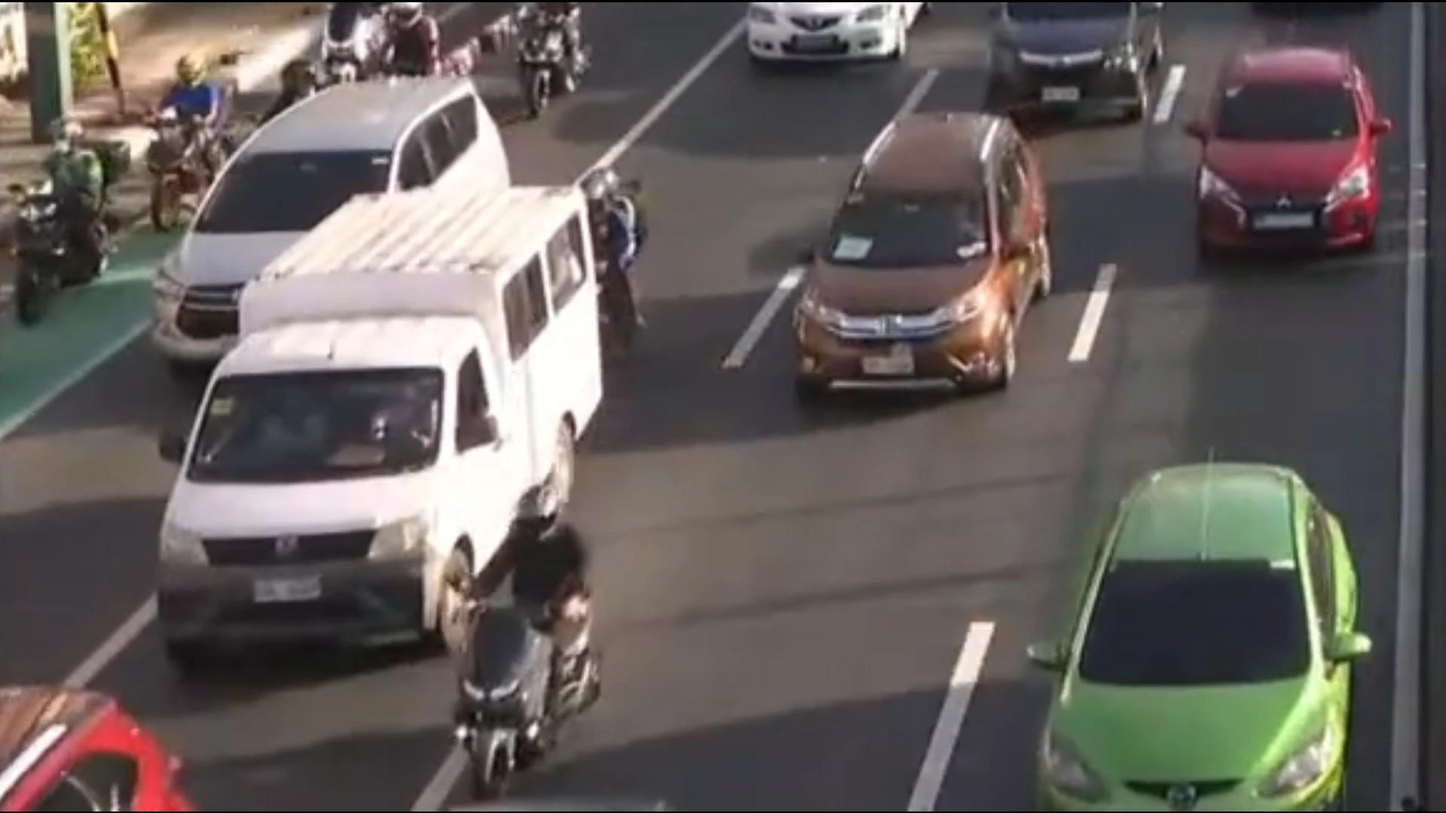Motorcycle: (392, 474, 696, 795), (14, 109, 139, 359), (129, 32, 264, 231), (509, 0, 597, 130)
Multicab: (104, 172, 634, 684)
SUV: (130, 48, 532, 373), (766, 100, 1050, 450)
Sedan: (1003, 431, 1446, 813), (1139, 39, 1409, 298)
